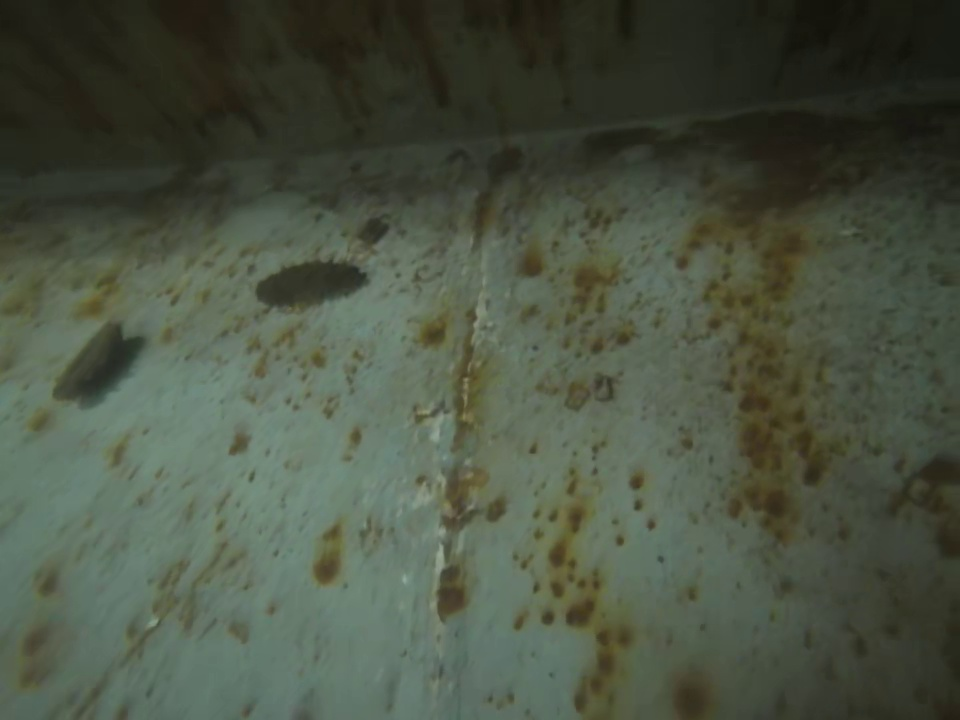seacucumber: (51, 315, 125, 400), (254, 261, 368, 303)
